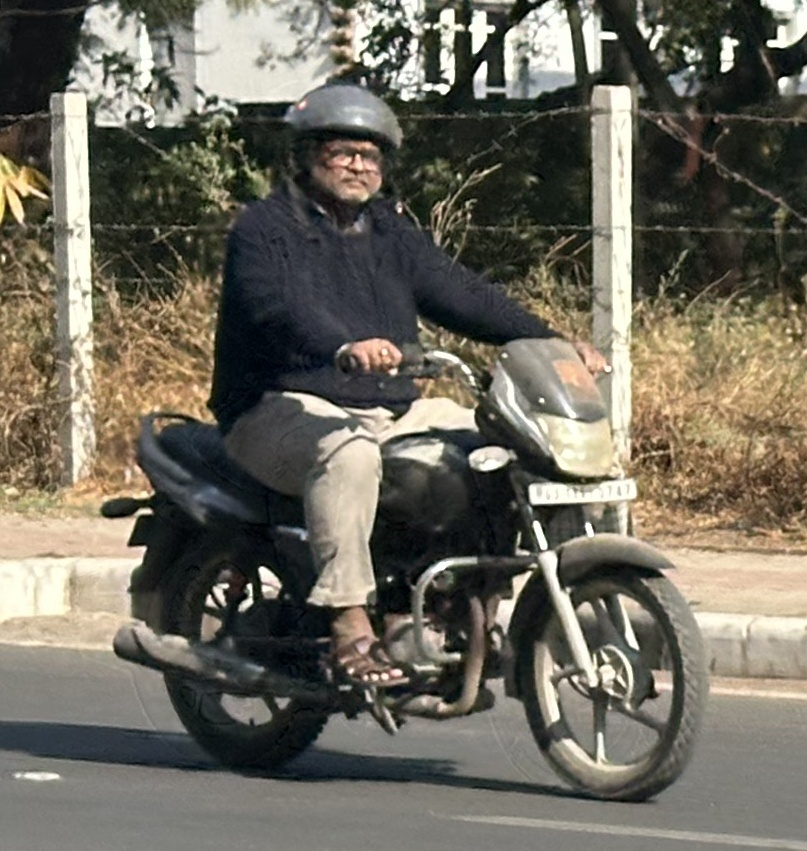BikeWithRider: (88, 71, 722, 809)
Helmet: (266, 76, 416, 220)
